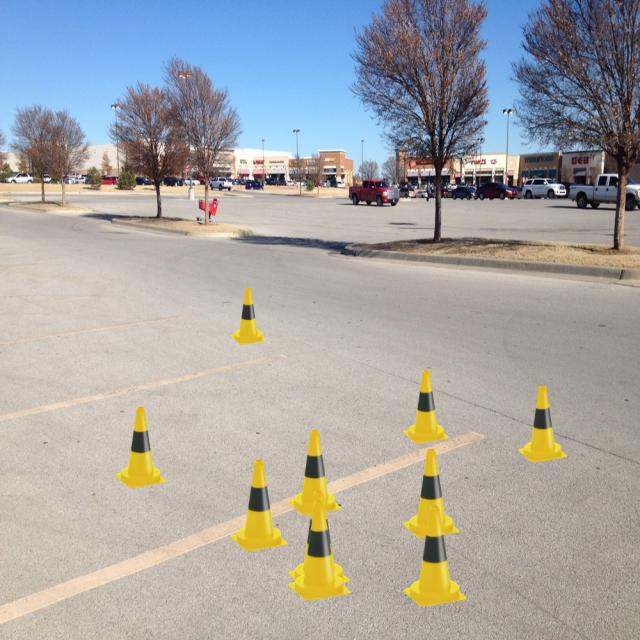yellow_cone: (403, 506, 467, 607), (288, 501, 351, 601), (288, 491, 350, 588), (230, 460, 288, 551), (403, 449, 460, 538), (288, 430, 342, 515), (116, 407, 166, 488), (518, 386, 567, 462), (403, 370, 449, 444), (230, 288, 266, 344)
